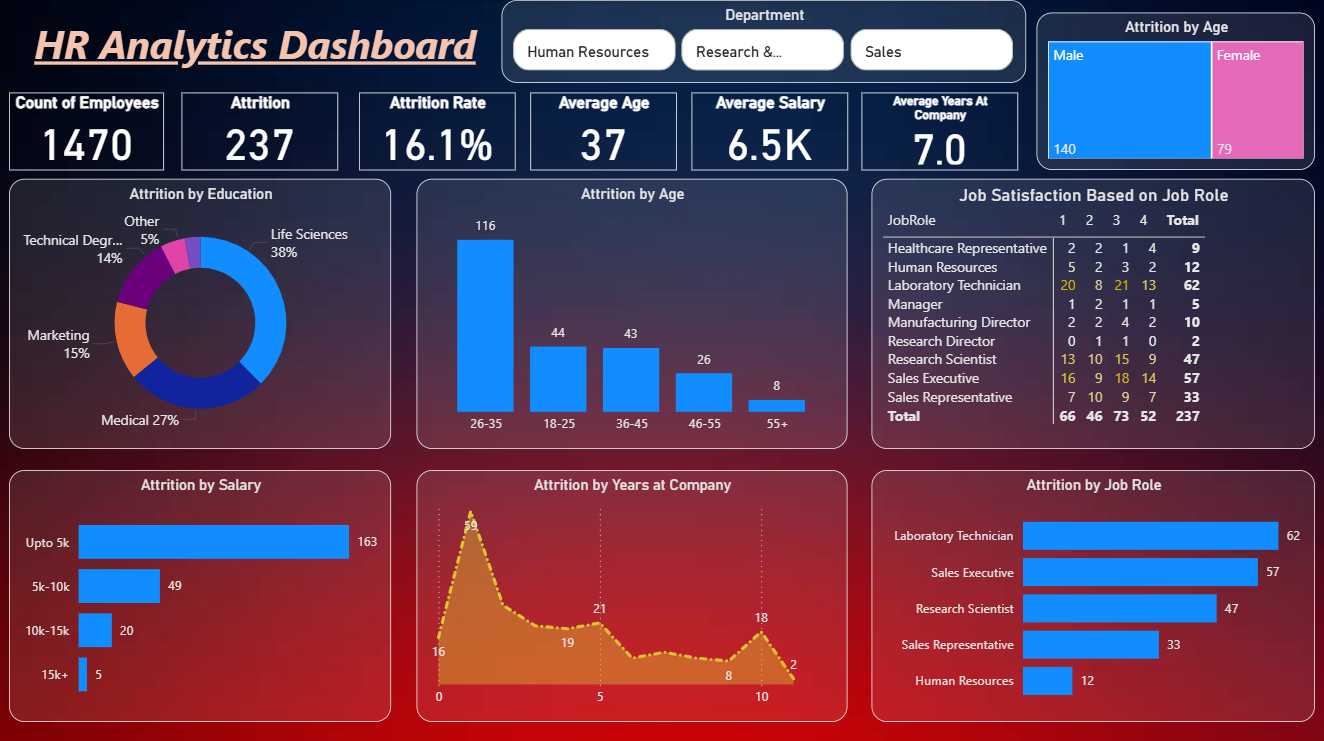

This screenshot's page, from the dashboard's own definition file:
{"tool":"powerbi","page":{"name":"Page 1","canvas":[1280,720],"ordinal":0},"visuals":[{"type":"card","title":"Count of Employees","fields":{"Values":["CountNonNull(HR_Analytics (1).EmpID)"]},"box":[9.6,89.2,149.6,75.5],"z":0},{"type":"card","title":"Attrition","fields":{"Values":["Sum(HR_Analytics (1).AttritionCount)"]},"box":[175.6,89.2,150.9,75.5],"z":1000},{"type":"card","title":"Attrition Rate","fields":{"Values":["HR_Analytics (1).AttritionRate"]},"box":[347.2,89.2,150.9,75.5],"z":2000},{"type":"card","title":"Average Age","fields":{"Values":["Avg(HR_Analytics (1).Age)"]},"box":[513.2,89.2,141.3,75.5],"z":3000},{"type":"card","title":"Average Years At Company","fields":{"Values":["Avg(HR_Analytics (1).YearsAtCompany)"]},"box":[832.9,89.2,150.9,75.5],"z":4000},{"type":"card","title":"Average Salary","fields":{"Values":["Avg(HR_Analytics (1).MonthlyIncome)"]},"box":[668.3,89.2,150.9,75.5],"z":5000},{"type":"donutChart","title":"Attrition by Education","fields":{"Category":["HR_Analytics (1).EducationField"],"Y":["Sum(HR_Analytics (1).AttritionCount)"]},"box":[9.6,172.9,369.1,260.7],"z":6000},{"type":"columnChart","title":"Attrition by Age","fields":{"Category":["HR_Analytics (1).AgeGroup"],"Y":["Sum(HR_Analytics (1).AttritionCount)"]},"box":[403.4,172.9,415.8,260.7],"z":7000},{"type":"pivotTable","title":"Job Satisfaction Based on Job Role","fields":{"Rows":["HR_Analytics (1).JobRole"],"Columns":["HR_Analytics (1).JobSatisfaction"],"Values":["Sum(HR_Analytics (1).AttritionCount)"]},"box":[842.1,172.5,428.3,260.6],"z":8000},{"type":"barChart","title":"Attrition by Salary ","fields":{"Category":["HR_Analytics (1).SalarySlab"],"Y":["Sum(HR_Analytics (1).AttritionCount)"]},"box":[9.6,454.2,369.1,242.9],"z":9000},{"type":"barChart","title":"Attrition by Job Role","fields":{"Category":["HR_Analytics (1).JobRole"],"Y":["Sum(HR_Analytics (1).AttritionCount)"]},"box":[842.5,454.2,428.1,242.9],"z":10000},{"type":"areaChart","title":"Attrition by Years at Company","fields":{"Category":["HR_Analytics (1).YearsAtCompany"],"Y":["Sum(HR_Analytics (1).AttritionCount)"]},"box":[403.4,454.2,415.8,242.9],"z":11000},{"type":"treemap","title":"Attrition by Age","fields":{"Group":["HR_Analytics (1).Gender"],"Values":["Sum(HR_Analytics (1).AttritionCount)"]},"box":[1001.7,12.3,269,152.3],"z":12000},{"type":"advancedSlicerVisual","fields":{"Values":["HR_Analytics (1).Department"]},"box":[485,0,506.7,79.6],"z":13000},{"type":"textbox","box":[9.6,12.3,474.8,67.2],"z":14000}]}

Visuals, with their boxes in screenshot pixels (x1, y1, x2, y2), scaled from the page's 1280x720 canvas onto the 1324x741 screenshot:
"Count of Employees" card: box=[10, 92, 165, 170]
"Attrition" card: box=[182, 92, 338, 170]
"Attrition Rate" card: box=[359, 92, 515, 170]
"Average Age" card: box=[531, 92, 677, 170]
"Average Years At Company" card: box=[862, 92, 1018, 170]
"Average Salary" card: box=[691, 92, 847, 170]
"Attrition by Education" donutChart: box=[10, 178, 392, 446]
"Attrition by Age" columnChart: box=[417, 178, 847, 446]
"Job Satisfaction Based on Job Role" pivotTable: box=[871, 178, 1314, 446]
"Attrition by Salary " barChart: box=[10, 467, 392, 717]
"Attrition by Job Role" barChart: box=[871, 467, 1314, 717]
"Attrition by Years at Company" areaChart: box=[417, 467, 847, 717]
"Attrition by Age" treemap: box=[1036, 13, 1314, 169]
advancedSlicerVisual - HR_Analytics (1).Department: box=[502, 0, 1026, 82]
textbox: box=[10, 13, 501, 82]
